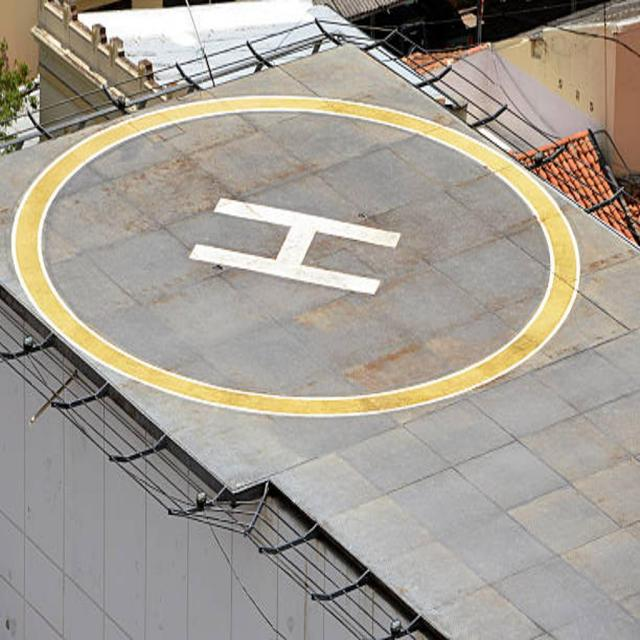helipad: (6, 93, 584, 417)
